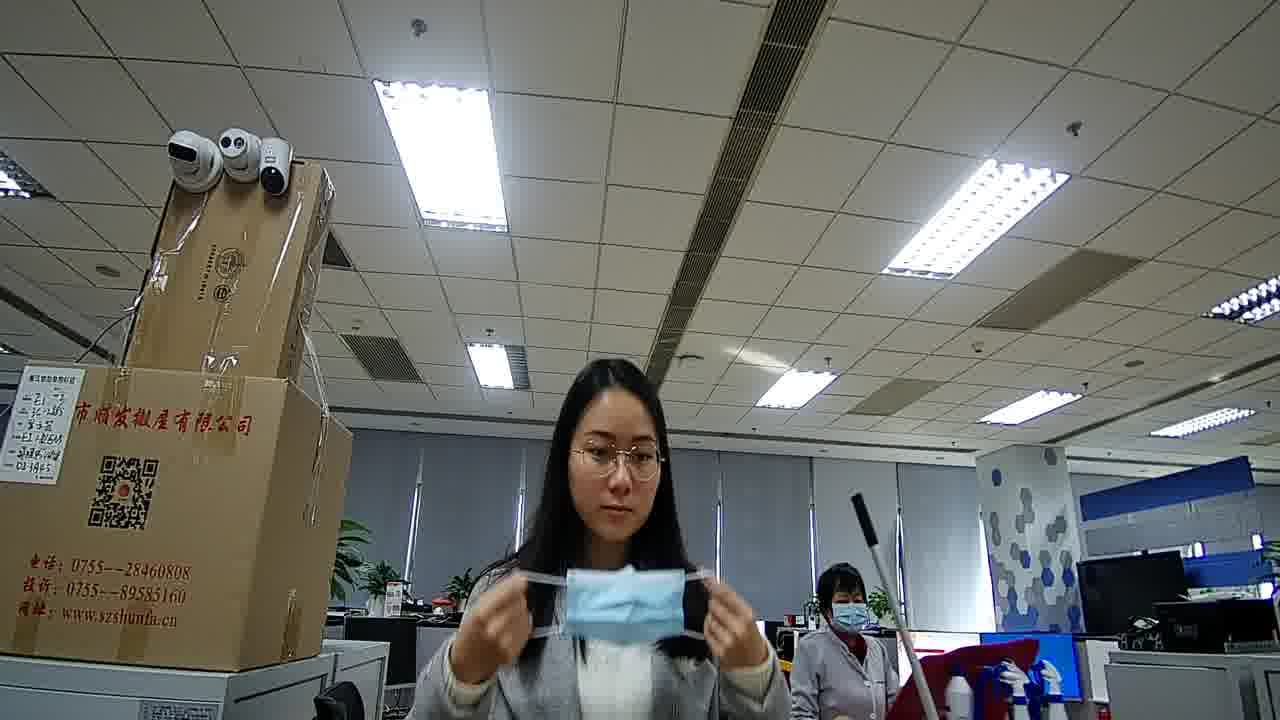face: (562, 403, 664, 547), (826, 588, 865, 637)
mask: (563, 564, 683, 645), (831, 598, 869, 635)
person: (448, 361, 750, 670), (803, 559, 894, 671)
